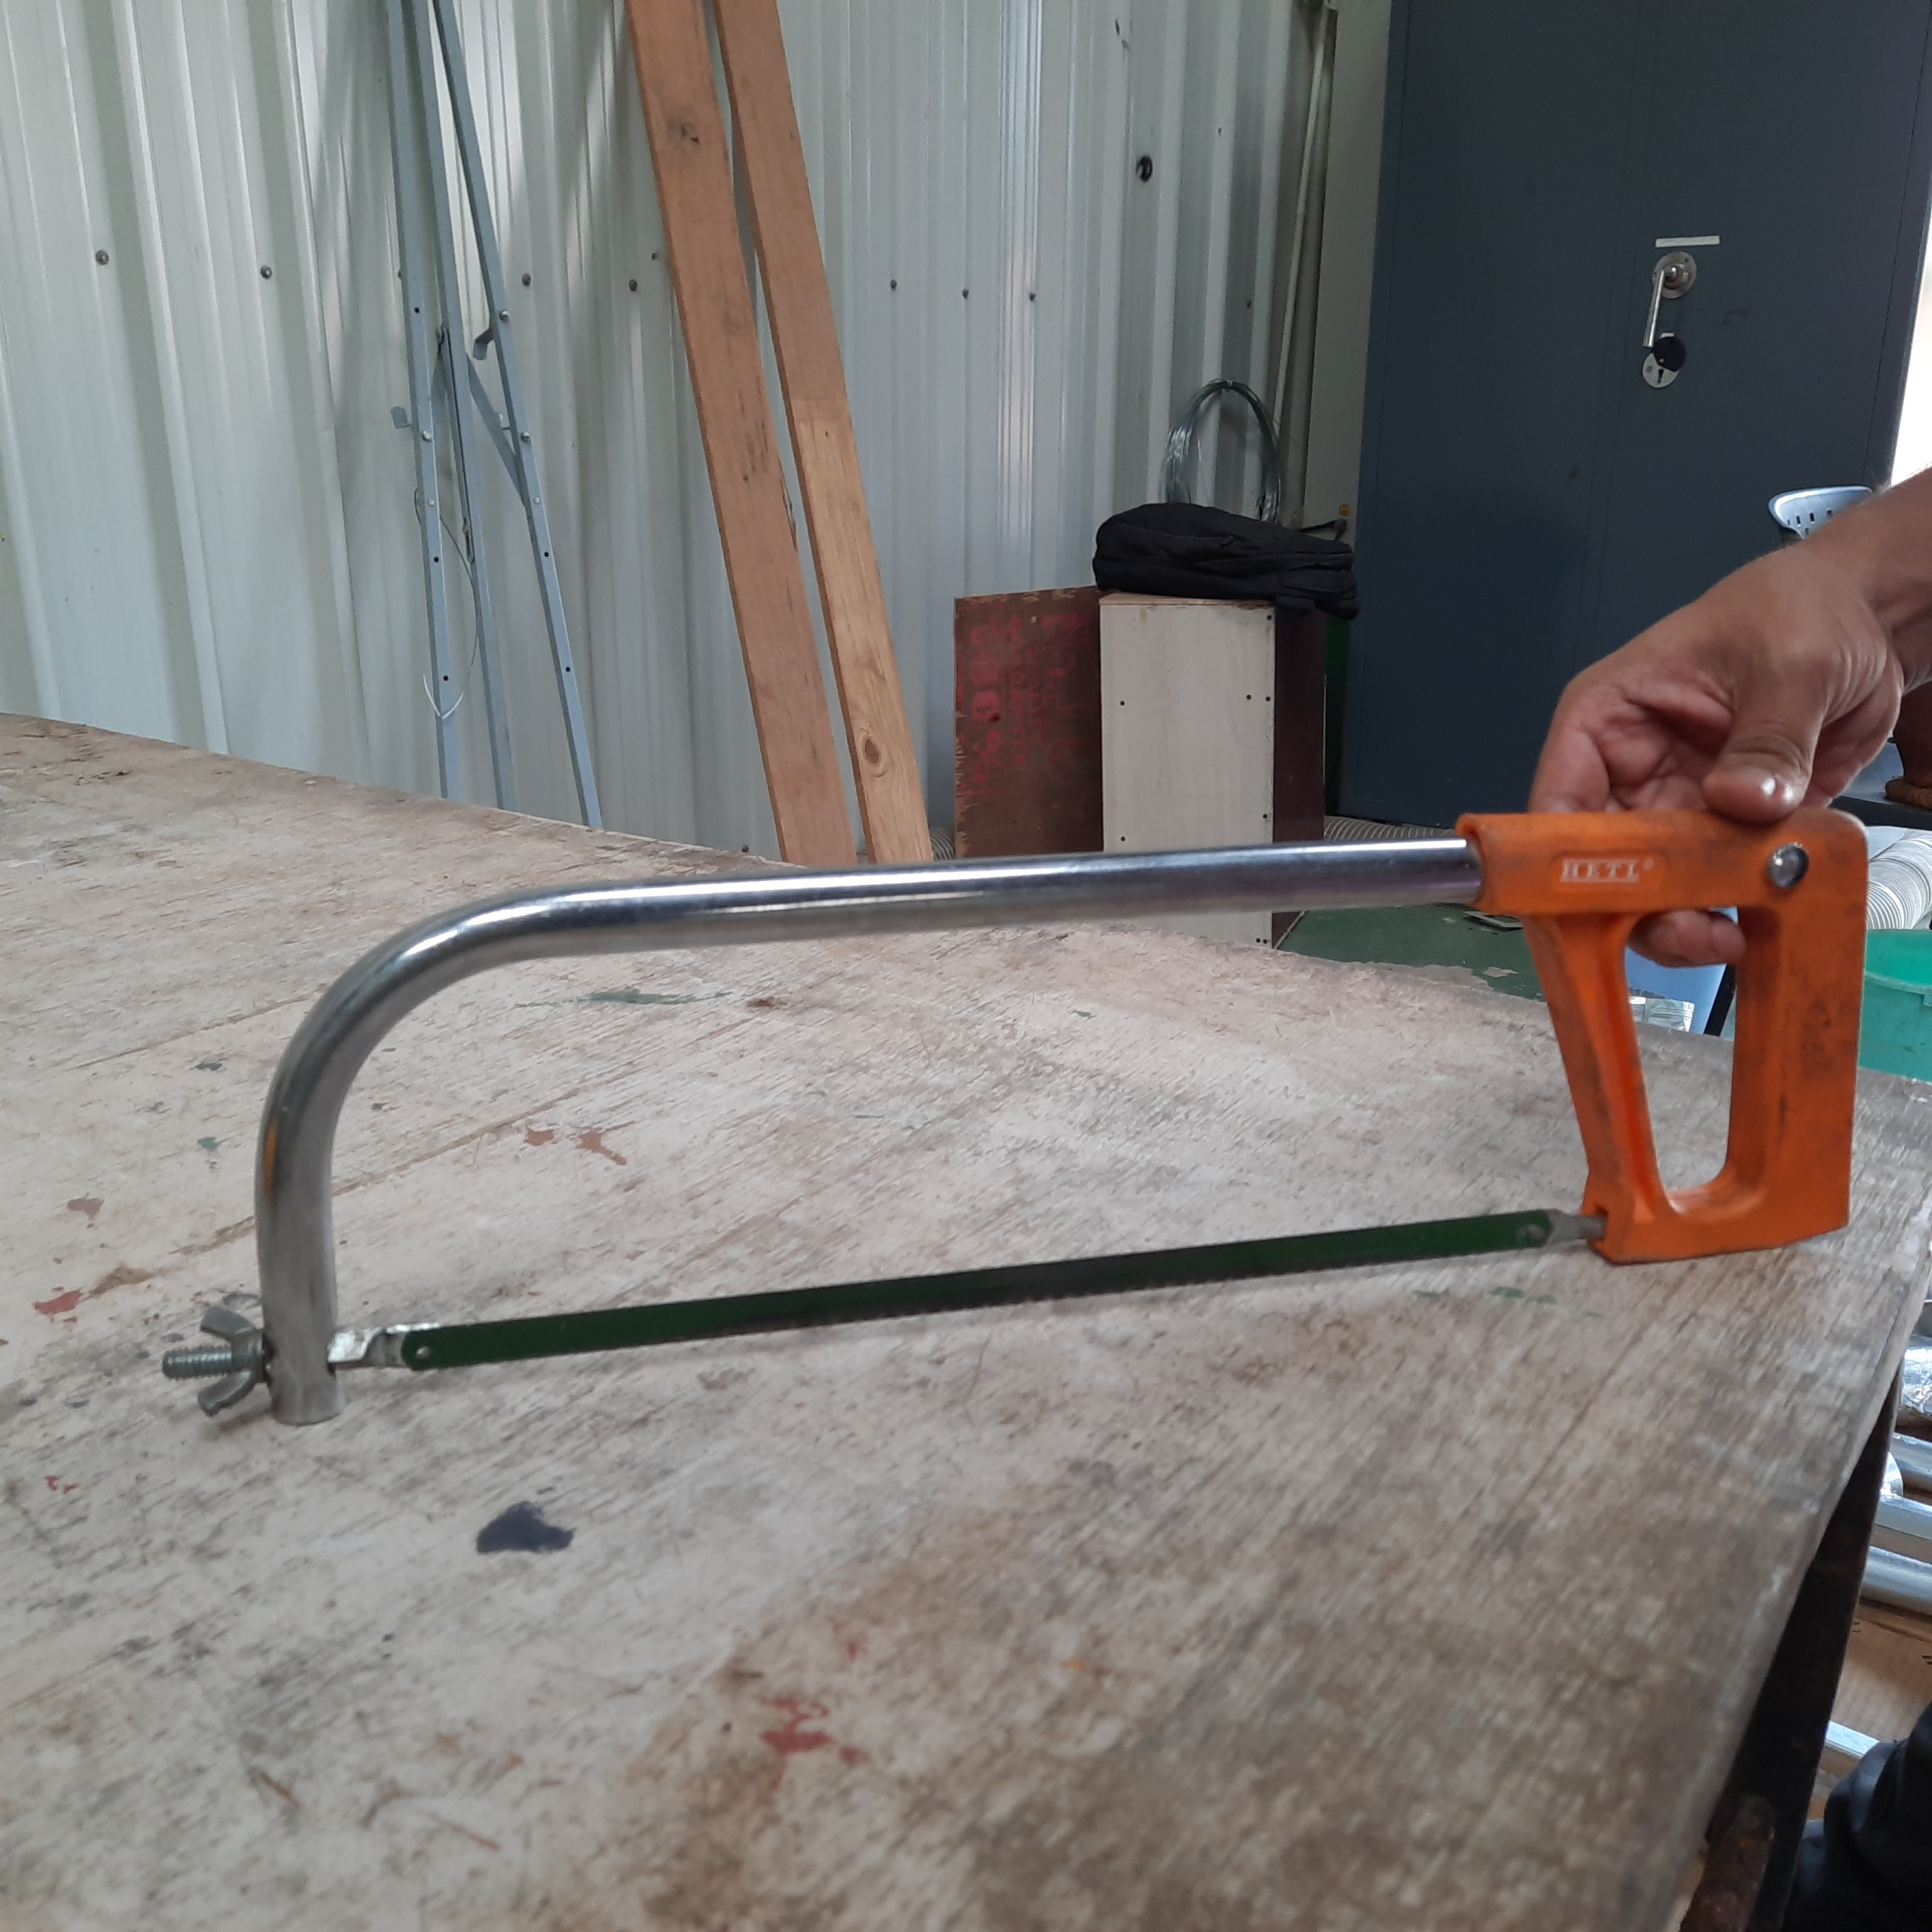Hexaframe: (147, 784, 1905, 1474)
